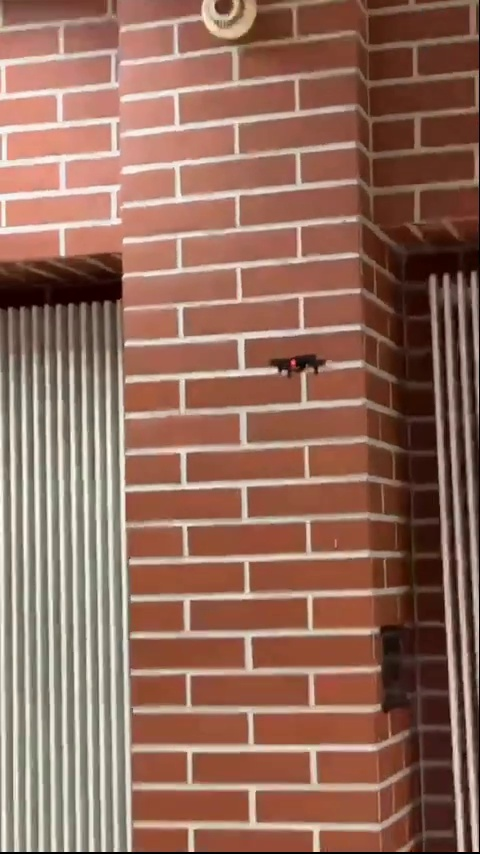drone: (266, 350, 331, 380)
